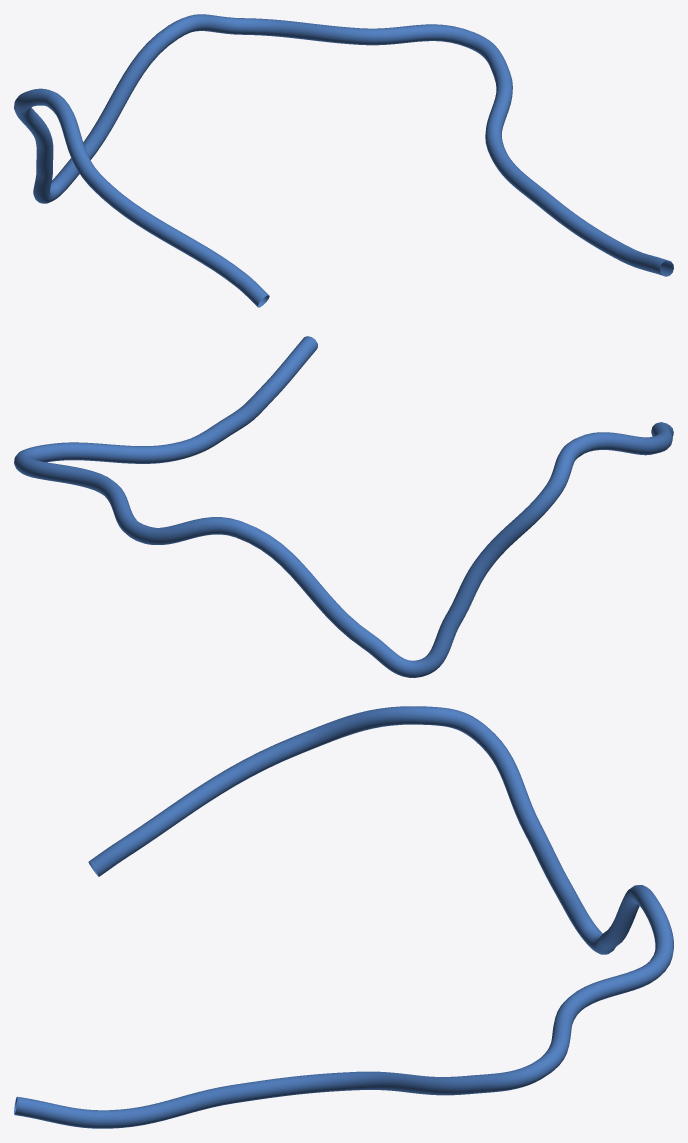
3 renders of one model, top to bottom at view 1: azimuth 30°, elevation 25°; view 2: azimuth 150°, elevation 25°; view 3: azimuth 270°, elevation 25°, orthographic. The views are drawn at different scales.
Parts seen in each view (by area): view 1: 右侧掌深静脉弓; view 2: 右侧掌深静脉弓; view 3: 右侧掌深静脉弓.
Part boxes in pixels (<box>): 右侧掌深静脉弓: <box>14,14,673,307</box>; 右侧掌深静脉弓: <box>14,336,673,677</box>; 右侧掌深静脉弓: <box>14,706,673,1128</box>.
Size of the model in its own units: 0.0718 by 0.0247 by 0.0725.
